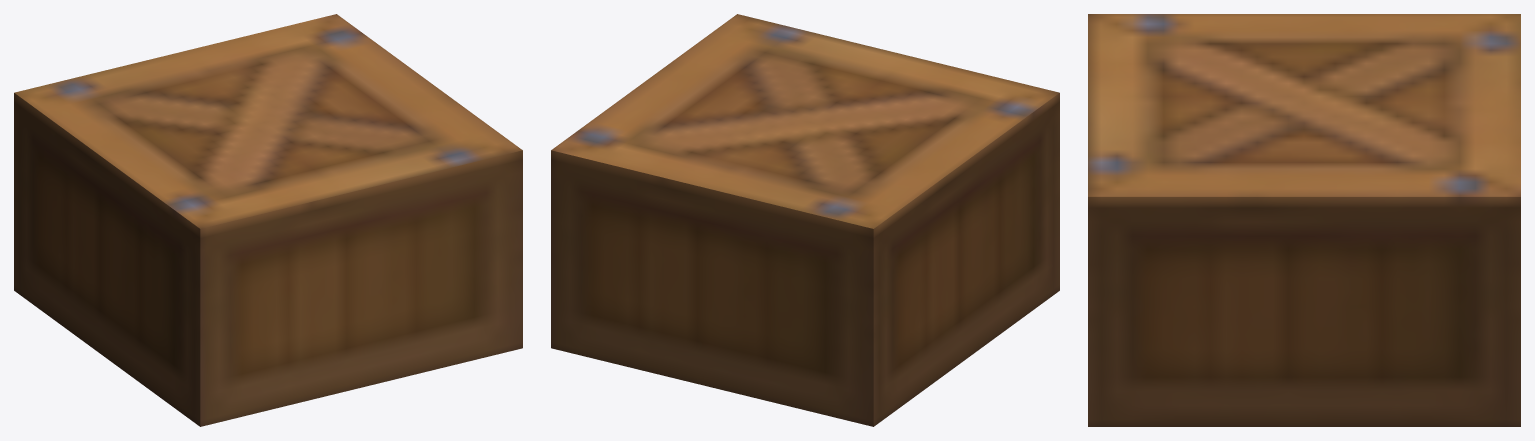
File: muxiang.FBX
The picture shows the model from 3 angles, left to right: view 1: azimuth 30°, elevation 25°; view 2: azimuth 150°, elevation 25°; view 3: azimuth 270°, elevation 25°; orthographic projection. The views are drawn at different scales.
Visible parts, largest first — view 1: muxiang; view 2: muxiang; view 3: muxiang.
Boxes of the visible parts, x1=… form: muxiang: x1=14, y1=14, x2=522, y2=426; muxiang: x1=551, y1=14, x2=1059, y2=426; muxiang: x1=1088, y1=14, x2=1520, y2=426.
Bounding box in the file's own units: 1.86 × 1.09 × 1.86.
